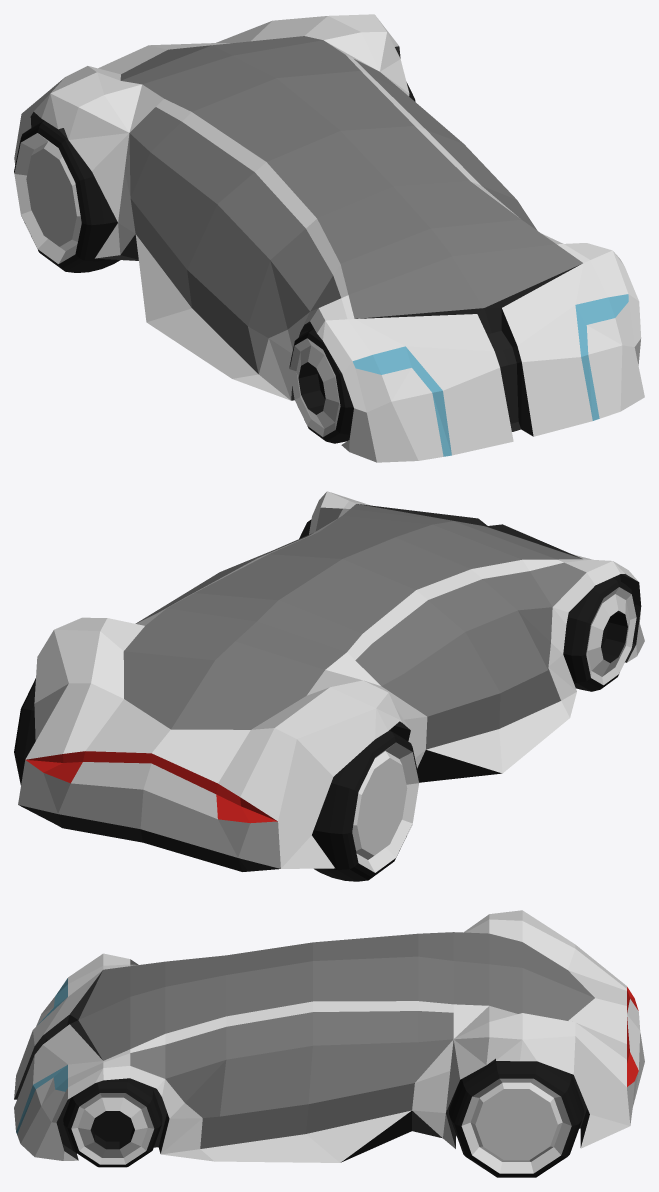
Rendered from ItemAnim_FutureCar.fbx.
3 views of the same model, one above another, from view 1: azimuth 30°, elevation 25°; view 2: azimuth 150°, elevation 25°; view 3: azimuth 270°, elevation 25° (orthographic). The views are drawn at different scales.
Visible parts, largest first — view 1: CarBody, Tyreback, TyrefrontRight; view 2: CarBody, Tyreback, TyrefrontRight; view 3: CarBody, Tyreback, TyrefrontLeft.
Part boxes in pixels (x1,y1,x2,y2): CarBody: (14, 14, 644, 462); Tyreback: (14, 82, 415, 272); TyrefrontRight: (289, 328, 353, 443); CarBody: (18, 491, 644, 871); Tyreback: (14, 678, 419, 881); TyrefrontRight: (563, 577, 636, 691); CarBody: (14, 910, 644, 1162); Tyreback: (449, 1061, 584, 1177); TyrefrontLeft: (63, 1078, 162, 1167).
Bounding box in the file's own units: 463 × 242 × 870.
